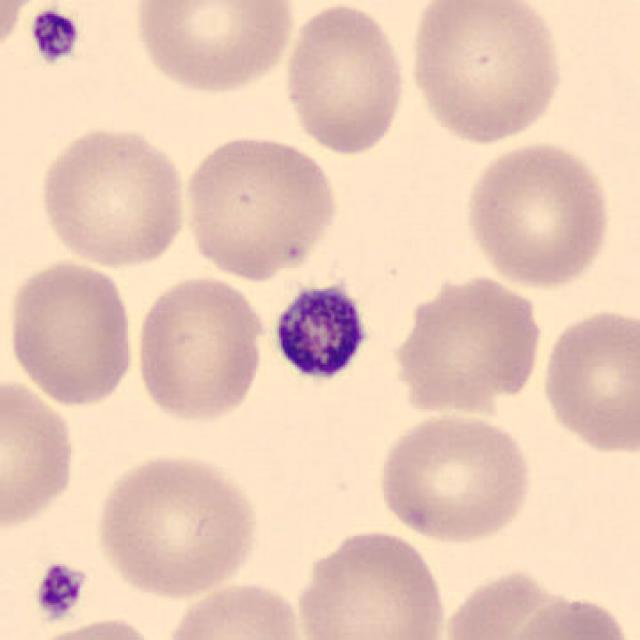Platelets: (266, 279, 372, 386), (32, 559, 89, 622), (27, 7, 82, 67)
RBC: (89, 450, 263, 601), (180, 130, 343, 284), (403, 0, 567, 146), (461, 137, 615, 291), (34, 122, 192, 270), (388, 270, 548, 416), (373, 407, 537, 547), (132, 272, 268, 426), (4, 256, 140, 409), (279, 2, 411, 158), (293, 525, 450, 640), (128, 0, 299, 97), (537, 303, 638, 457), (0, 374, 80, 536), (439, 564, 587, 640), (160, 578, 311, 640), (501, 592, 635, 640), (19, 613, 172, 640), (0, 0, 39, 65)
